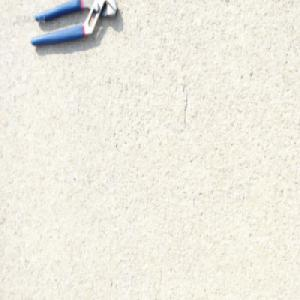Pliers: (29, 0, 119, 48)
